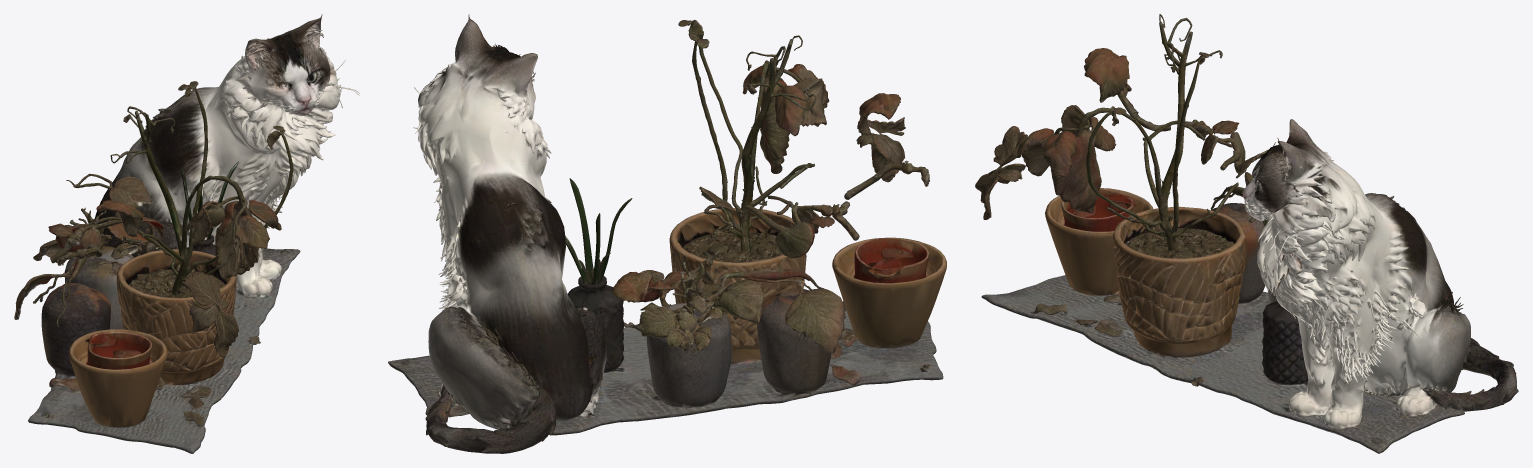
Rendered from maria.glb.
3 views of the same model, side by side, from view 1: azimuth 30°, elevation 25°; view 2: azimuth 150°, elevation 25°; view 3: azimuth 270°, elevation 25° (orthographic). The views are drawn at different scales.
Parts seen in each view (by area): view 1: mesh_node; view 2: mesh_node; view 3: mesh_node.
Part boxes in pixels (<box>): mesh_node: <box>14,14,359,453</box>; mesh_node: <box>388,14,946,453</box>; mesh_node: <box>975,14,1518,453</box>.
Bounding box in the file's own units: 1.74 × 1.2 × 1.92.
1 material, 1 textured.
